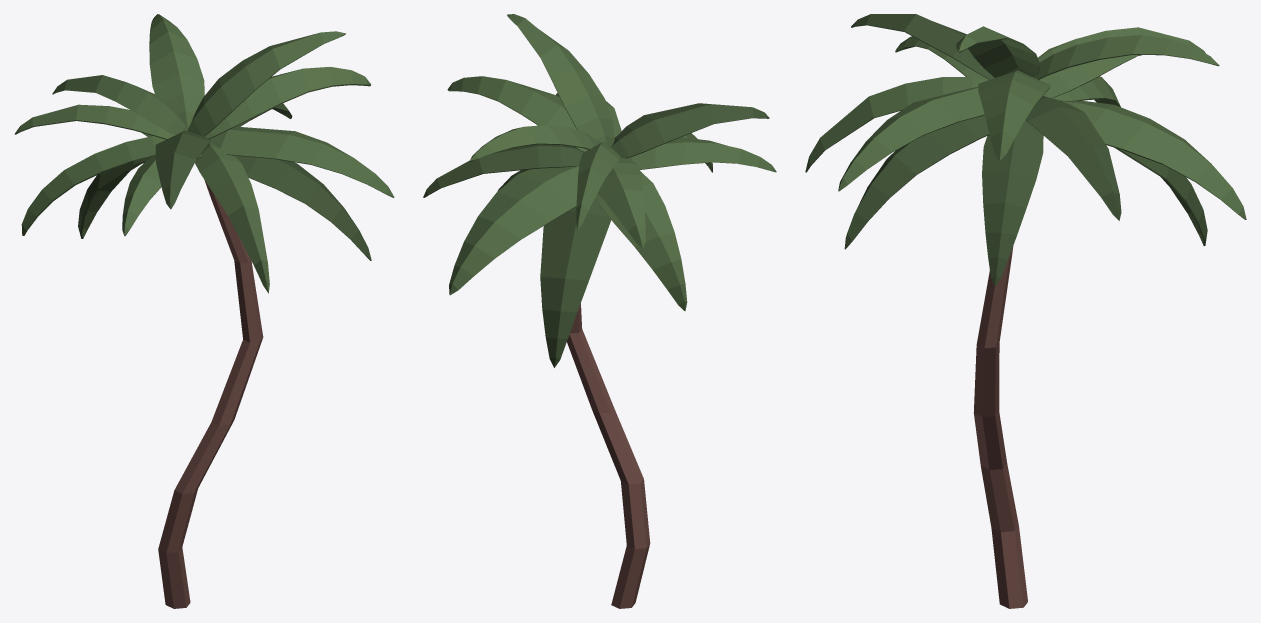
Rendered from PalmTree_Harvested.glb.
3 renders of one model, left to right at view 1: azimuth 30°, elevation 25°; view 2: azimuth 150°, elevation 25°; view 3: azimuth 270°, elevation 25°, orthographic. The views are drawn at different scales.
Parts seen in each view (by area): view 1: PalmTree_Harvested; view 2: PalmTree_Harvested; view 3: PalmTree_Harvested.
Part boxes in pixels (bbox=[...]): PalmTree_Harvested: bbox=[14, 14, 394, 608]; PalmTree_Harvested: bbox=[423, 14, 776, 608]; PalmTree_Harvested: bbox=[805, 14, 1246, 608].
Size of the model in its own units: 1.81 by 3.25 by 2.05.
